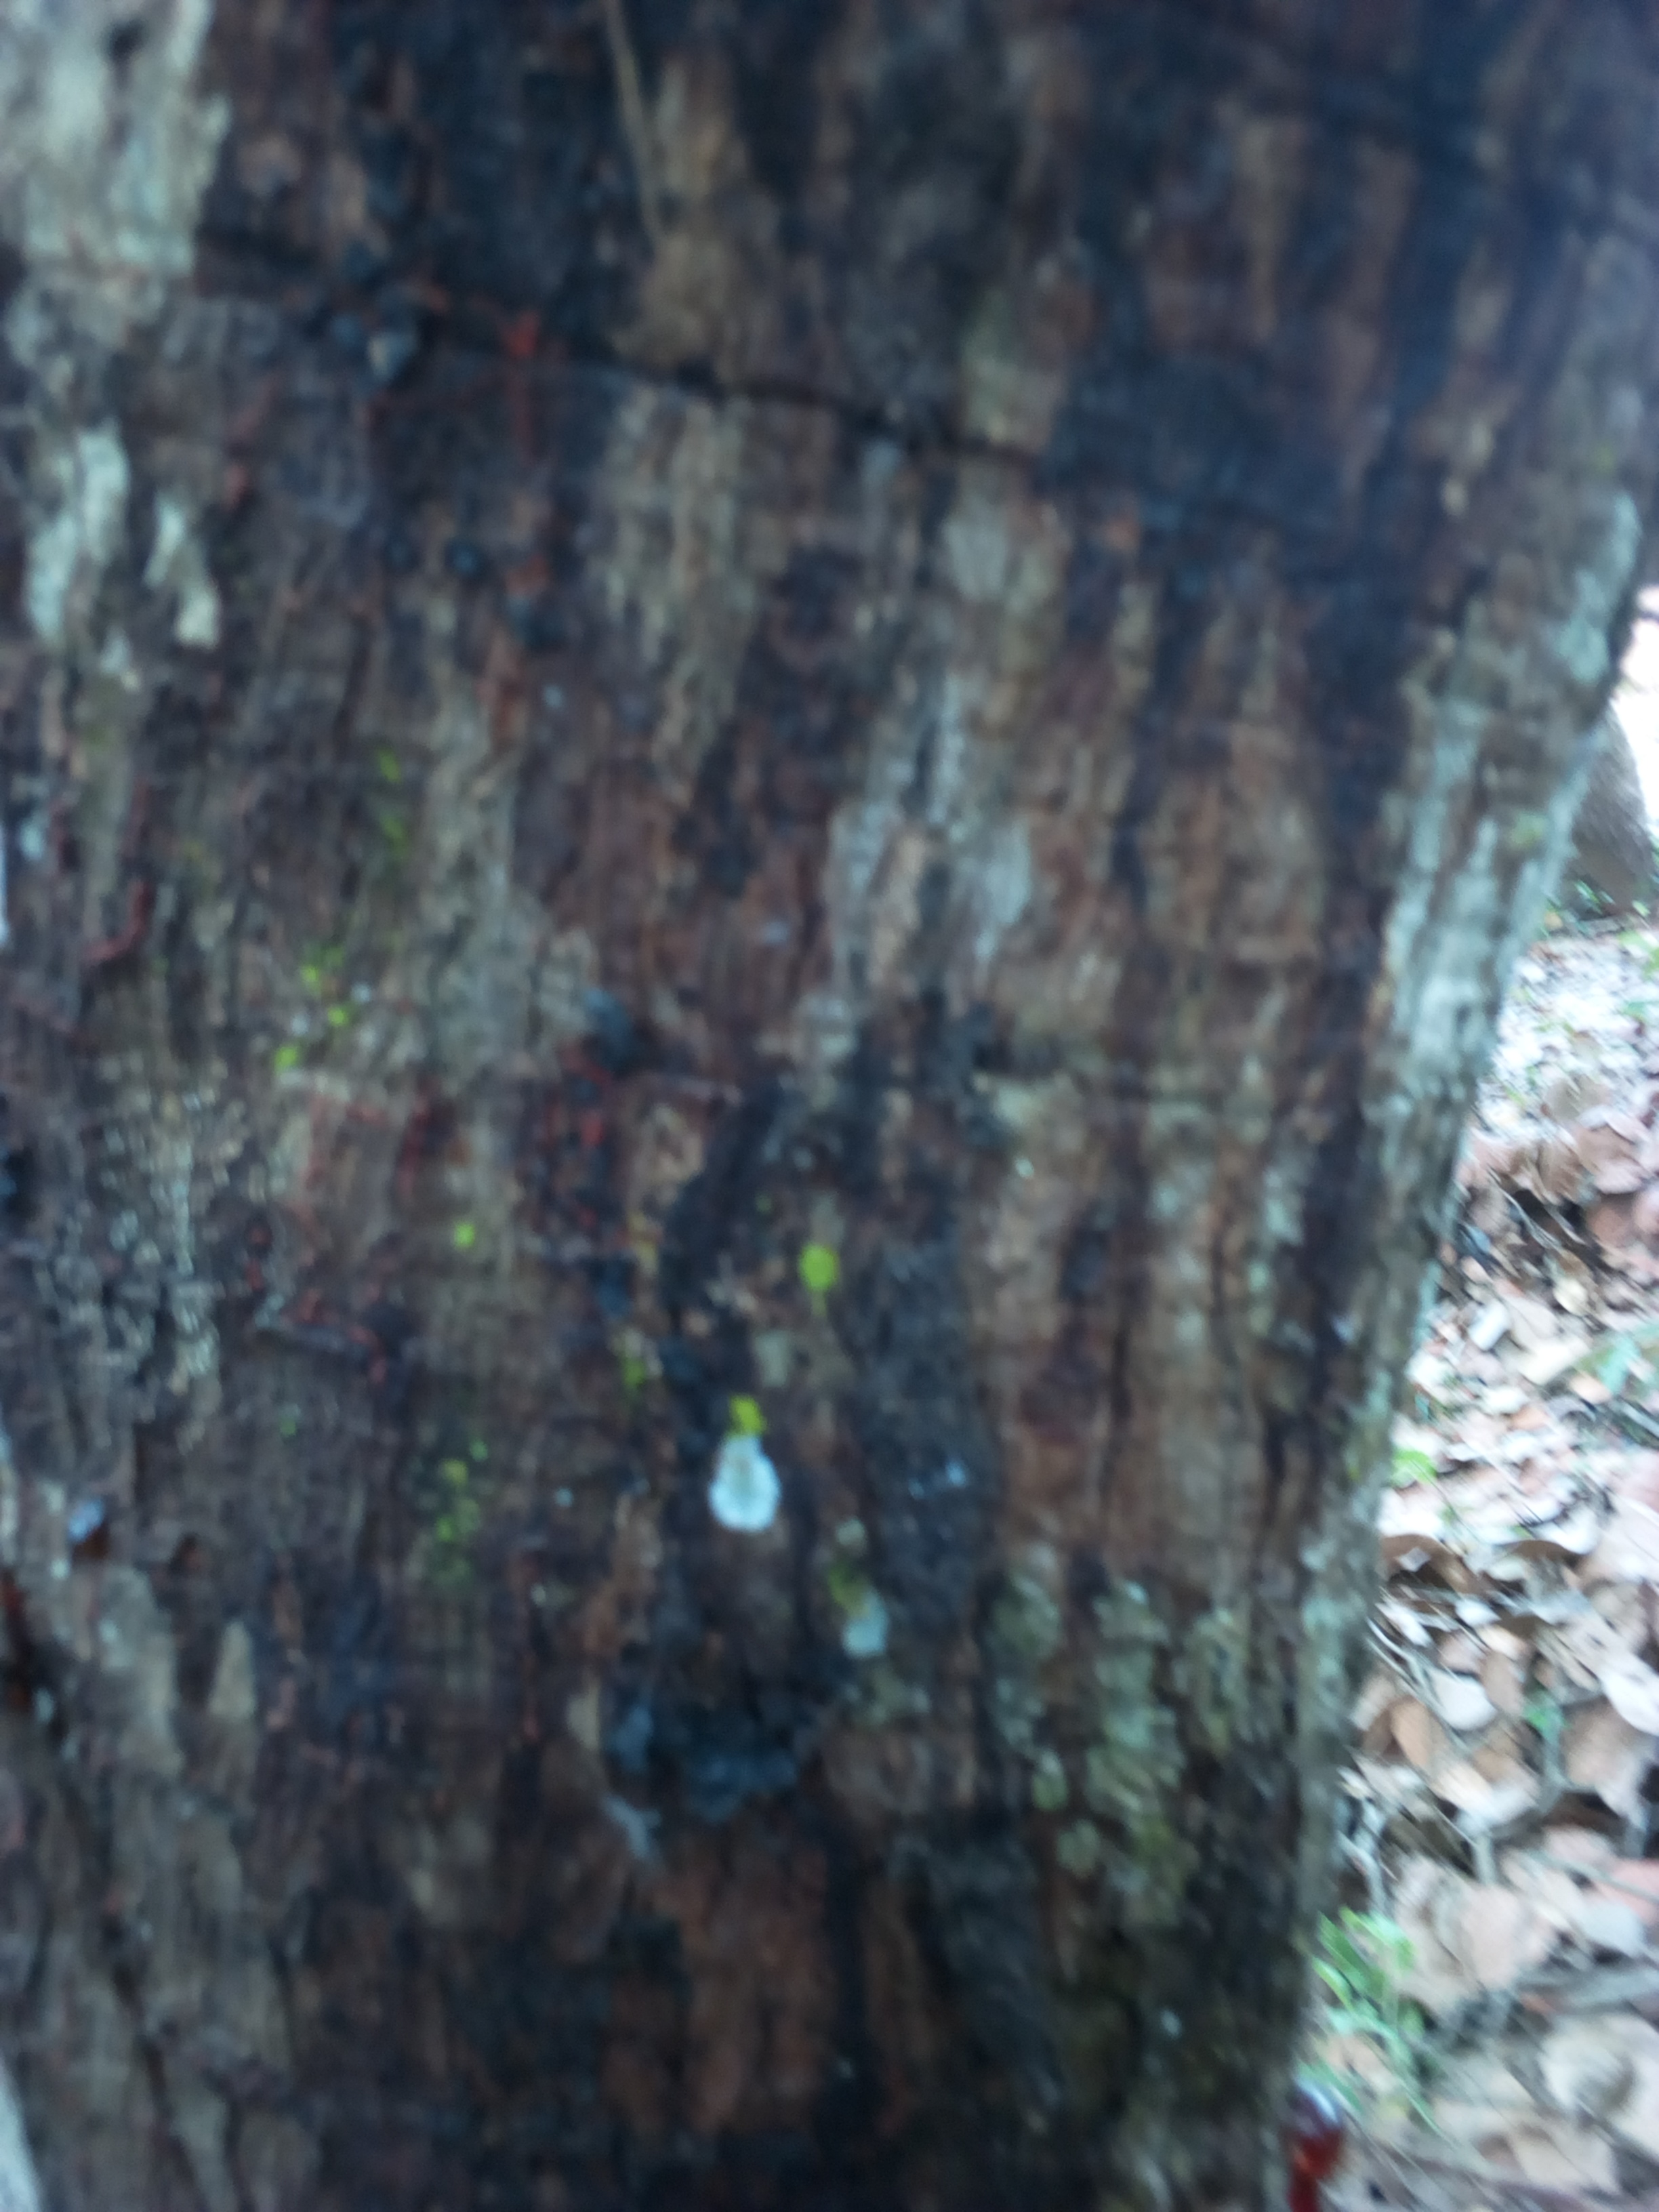Gommose: (251, 52, 1297, 2203)
